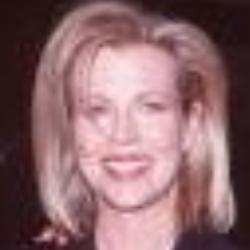face: (14, 7, 237, 234)
